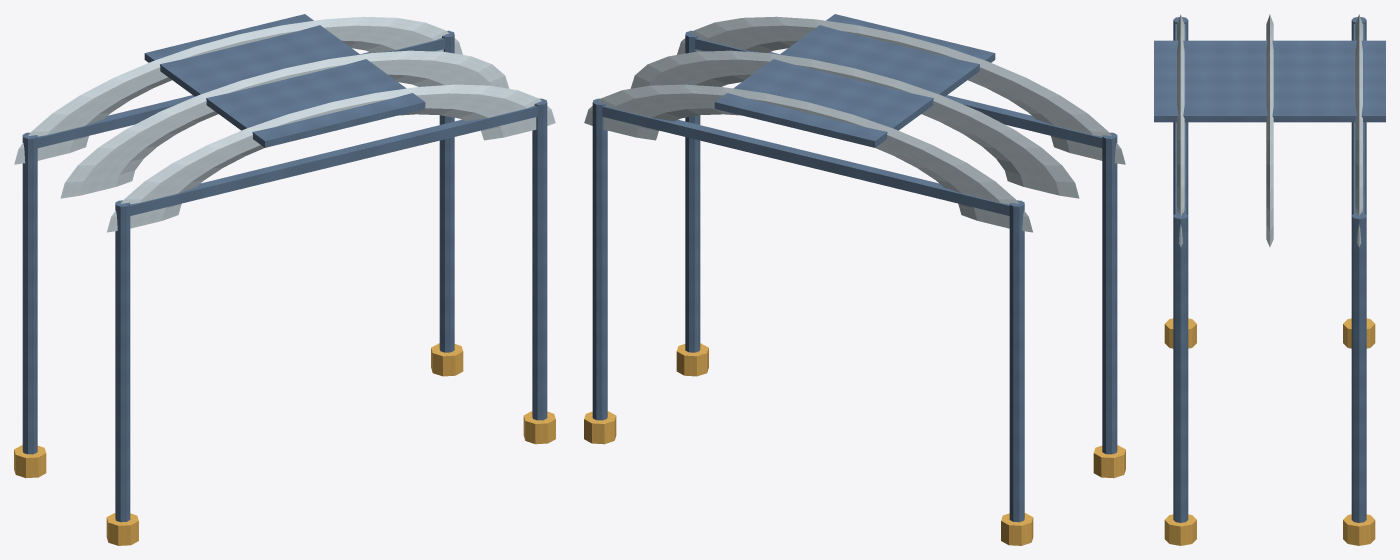
Rendered from atlas100-s051-a08.glb.
The picture shows the model from 3 angles, left to right: view 1: azimuth 30°, elevation 25°; view 2: azimuth 150°, elevation 25°; view 3: azimuth 270°, elevation 25°; orthographic projection. The views are drawn at different scales.
Visible parts, largest first — view 1: atlas100-s051-a08:part-013, atlas100-s051-a08:part-011, atlas100-s051-a08:part-012, atlas100-s051-a08:part-010, atlas100-s051-a08:part-009, atlas100-s051-a08:part-002, atlas100-s051-a08:part-000, atlas100-s051-a08:part-006, atlas100-s051-a08:part-004, atlas100-s051-a08:part-008, atlas100-s051-a08:part-005, atlas100-s051-a08:part-007 (+2 smaller); view 2: atlas100-s051-a08:part-013, atlas100-s051-a08:part-011, atlas100-s051-a08:part-010, atlas100-s051-a08:part-012, atlas100-s051-a08:part-008, atlas100-s051-a08:part-000, atlas100-s051-a08:part-002, atlas100-s051-a08:part-004, atlas100-s051-a08:part-006, atlas100-s051-a08:part-009, atlas100-s051-a08:part-007, atlas100-s051-a08:part-005 (+2 smaller); view 3: atlas100-s051-a08:part-013, atlas100-s051-a08:part-004, atlas100-s051-a08:part-006, atlas100-s051-a08:part-011, atlas100-s051-a08:part-010, atlas100-s051-a08:part-012, atlas100-s051-a08:part-005, atlas100-s051-a08:part-007, atlas100-s051-a08:part-000, atlas100-s051-a08:part-002, atlas100-s051-a08:part-008, atlas100-s051-a08:part-009 (+2 smaller).
Part boxes in pixels (left/top/right/bottom): atlas100-s051-a08:part-013: left=144, top=14, right=425, bottom=147; atlas100-s051-a08:part-011: left=60, top=50, right=509, bottom=198; atlas100-s051-a08:part-012: left=107, top=84, right=555, bottom=232; atlas100-s051-a08:part-010: left=14, top=16, right=462, bottom=164; atlas100-s051-a08:part-009: left=130, top=105, right=537, bottom=215; atlas100-s051-a08:part-002: left=115, top=200, right=130, bottom=522; atlas100-s051-a08:part-000: left=22, top=132, right=37, bottom=454; atlas100-s051-a08:part-006: left=532, top=98, right=547, bottom=420; atlas100-s051-a08:part-004: left=439, top=30, right=454, bottom=352; atlas100-s051-a08:part-008: left=37, top=38, right=444, bottom=147; atlas100-s051-a08:part-005: left=431, top=343, right=463, bottom=376; atlas100-s051-a08:part-007: left=523, top=411, right=555, bottom=444; atlas100-s051-a08:part-013: left=714, top=14, right=995, bottom=147; atlas100-s051-a08:part-011: left=630, top=50, right=1079, bottom=198; atlas100-s051-a08:part-010: left=584, top=84, right=1032, bottom=232; atlas100-s051-a08:part-012: left=677, top=16, right=1125, bottom=164; atlas100-s051-a08:part-008: left=602, top=105, right=1009, bottom=215; atlas100-s051-a08:part-000: left=1009, top=200, right=1024, bottom=522; atlas100-s051-a08:part-002: left=1102, top=132, right=1117, bottom=454; atlas100-s051-a08:part-004: left=592, top=98, right=607, bottom=420; atlas100-s051-a08:part-006: left=685, top=30, right=700, bottom=352; atlas100-s051-a08:part-009: left=695, top=38, right=1102, bottom=147; atlas100-s051-a08:part-007: left=676, top=343, right=708, bottom=376; atlas100-s051-a08:part-005: left=584, top=411, right=616, bottom=444; atlas100-s051-a08:part-013: left=1154, top=40, right=1385, bottom=122; atlas100-s051-a08:part-004: left=1351, top=213, right=1366, bottom=522; atlas100-s051-a08:part-006: left=1173, top=213, right=1188, bottom=522; atlas100-s051-a08:part-011: left=1266, top=14, right=1273, bottom=246; atlas100-s051-a08:part-010: left=1355, top=14, right=1362, bottom=247; atlas100-s051-a08:part-012: left=1177, top=14, right=1184, bottom=247; atlas100-s051-a08:part-005: left=1343, top=514, right=1375, bottom=545; atlas100-s051-a08:part-007: left=1164, top=514, right=1196, bottom=545; atlas100-s051-a08:part-000: left=1351, top=17, right=1366, bottom=215; atlas100-s051-a08:part-002: left=1173, top=17, right=1188, bottom=215; atlas100-s051-a08:part-008: left=1353, top=24, right=1364, bottom=213; atlas100-s051-a08:part-009: left=1175, top=24, right=1186, bottom=213.
Size of the model in its own units: 5.6 by 4.6 by 2.6.
3 materials, 3 textured.
